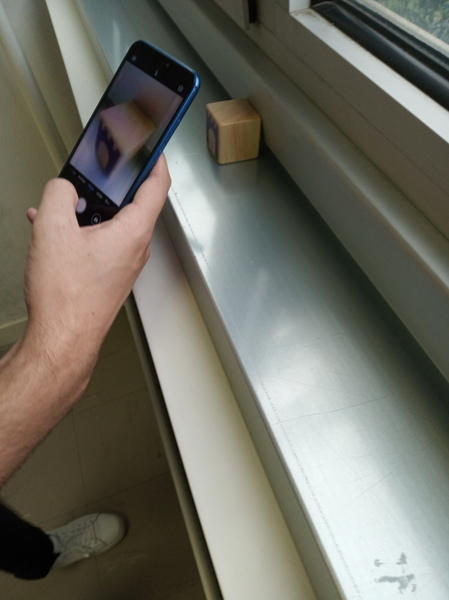violet: (205, 101, 263, 162), (94, 113, 149, 172)
